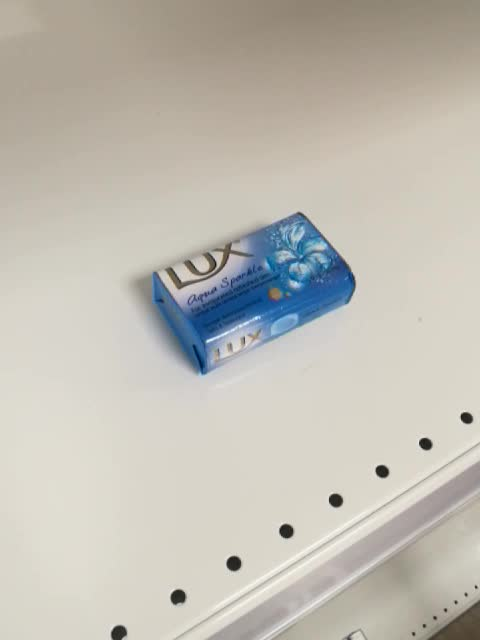soap: (152, 208, 357, 376)
